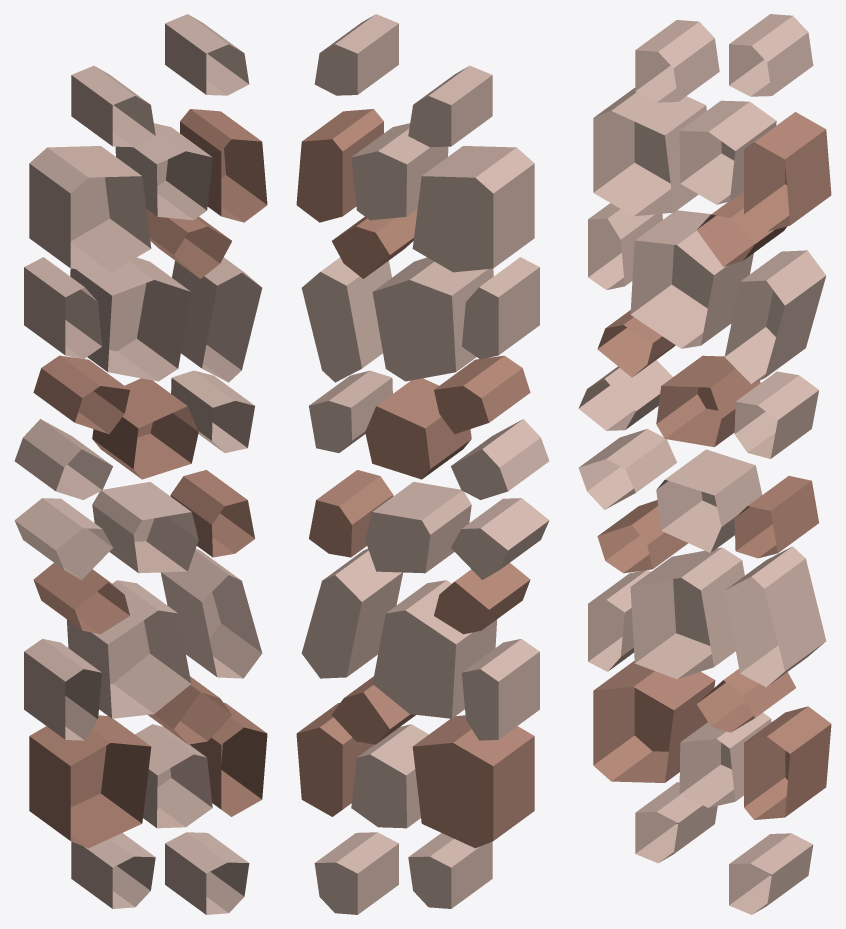
File: Path.dae
3 views of the same model, side by side, from view 1: azimuth 30°, elevation 25°; view 2: azimuth 150°, elevation 25°; view 3: azimuth 330°, elevation 25° (orthographic).
Visible parts, largest first — view 1: Rock_Corridor.001; view 2: Rock_Corridor.001; view 3: Rock_Corridor.001.
Part boxes in pixels (x1=…): Rock_Corridor.001: x1=14, y1=14, x2=267, y2=914; Rock_Corridor.001: x1=296, y1=14, x2=549, y2=914; Rock_Corridor.001: x1=578, y1=14, x2=831, y2=914.
Size of the model in its own units: 0.9657 by 0.3267 by 3.79.
